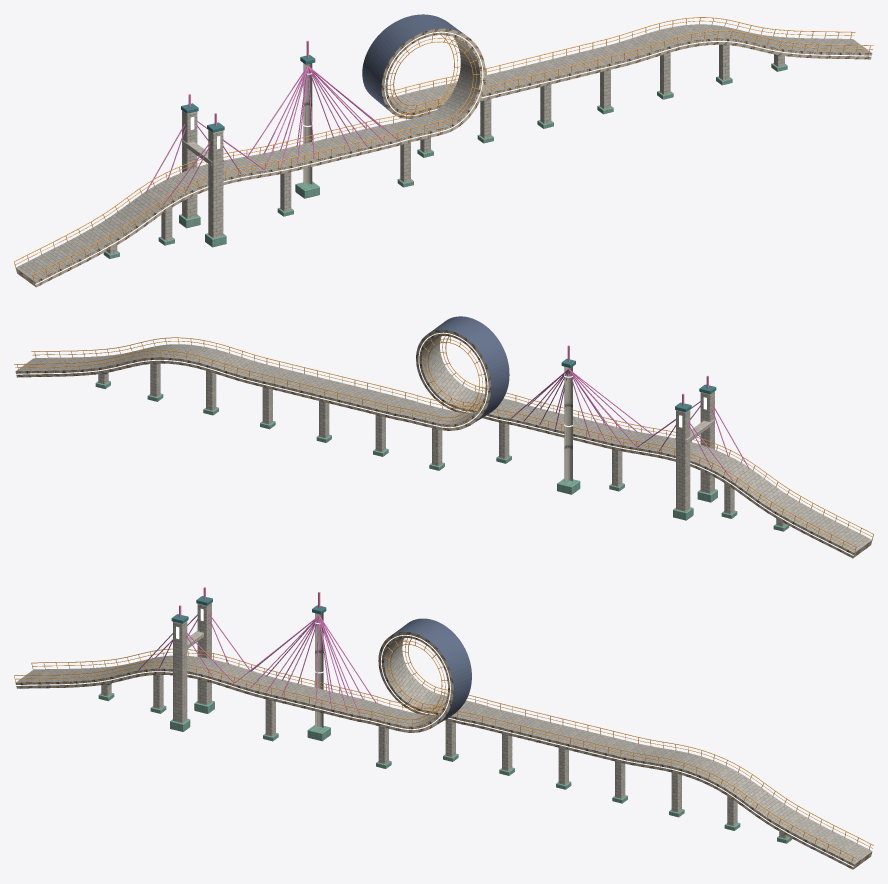
The model's file is BridgePath_Demo.glb.
The picture shows the model from 3 angles, top to bottom: view 1: azimuth 30°, elevation 25°; view 2: azimuth 150°, elevation 25°; view 3: azimuth 330°, elevation 25°; orthographic projection. The views are drawn at different scales.
Visible parts, largest first — view 1: BridgePath_Demo_Deck, BridgePath_Demo_T0_Foot-1, BridgePath_Demo_Neon-1; view 2: BridgePath_Demo_Deck, BridgePath_Demo_Neon-1, BridgePath_Demo_T0_Foot-1; view 3: BridgePath_Demo_Deck, BridgePath_Demo_Neon-1, BridgePath_Demo_T0_Foot-1.
Part boxes in pixels (bbox=[...]): BridgePath_Demo_Deck: bbox=[14, 14, 873, 287]; BridgePath_Demo_T0_Foot-1: bbox=[103, 63, 787, 258]; BridgePath_Demo_Neon-1: bbox=[16, 31, 871, 284]; BridgePath_Demo_Deck: bbox=[14, 316, 873, 558]; BridgePath_Demo_Neon-1: bbox=[15, 332, 853, 555]; BridgePath_Demo_T0_Foot-1: bbox=[95, 381, 789, 531]; BridgePath_Demo_Deck: bbox=[14, 596, 873, 869]; BridgePath_Demo_Neon-1: bbox=[16, 608, 872, 867]; BridgePath_Demo_T0_Foot-1: bbox=[98, 693, 792, 843].
Bounding box in the file's own units: 131 × 22.57 × 13.6.
7 materials, 3 textured.
